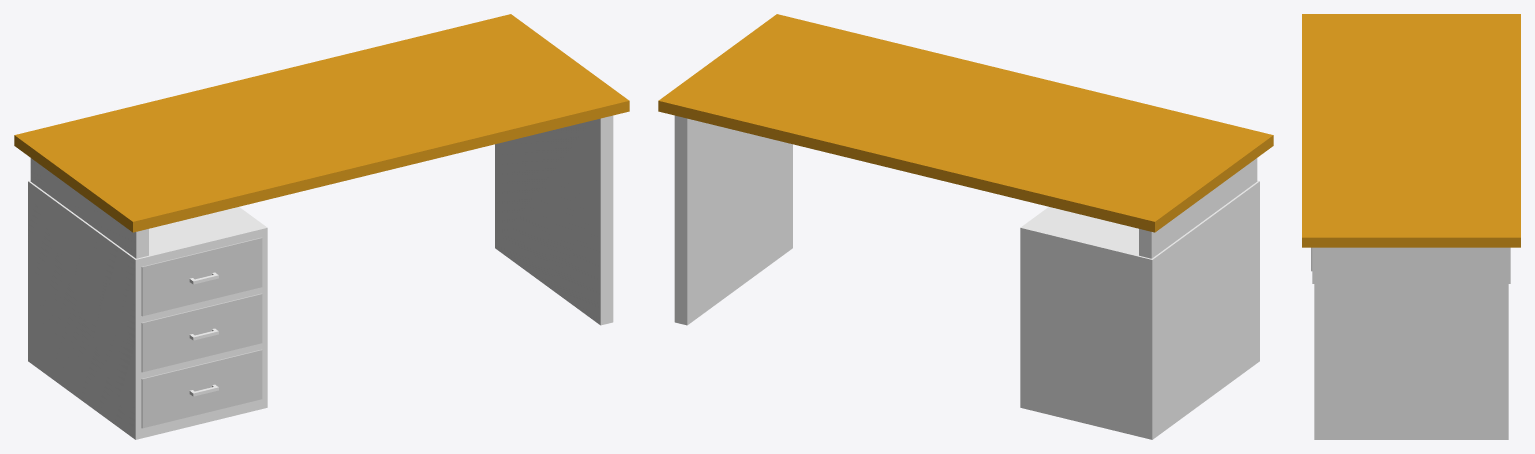
Rendered from table.fbx.
The picture shows the model from 3 angles, left to right: view 1: azimuth 30°, elevation 25°; view 2: azimuth 150°, elevation 25°; view 3: azimuth 270°, elevation 25°; orthographic projection. The views are drawn at different scales.
Visible parts, largest first — view 1: Cube, Cube.001, Cube.003, Cube.006; view 2: Cube, Cube.001, Cube.003; view 3: Cube, Cube.003.
Boxes of the visible parts, <box> form: Cube: <box>14,14,629,232</box>; Cube.001: <box>28,180,267,439</box>; Cube.003: <box>30,115,613,325</box>; Cube.006: <box>141,237,262,428</box>; Cube: <box>658,14,1273,232</box>; Cube.001: <box>1020,180,1259,439</box>; Cube.003: <box>674,115,1257,325</box>; Cube: <box>1302,14,1520,247</box>; Cube.003: <box>1314,247,1508,439</box>.
Size of the model in its own units: 484 by 209 by 200.
